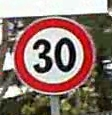limite 30: (8, 17, 96, 94)
